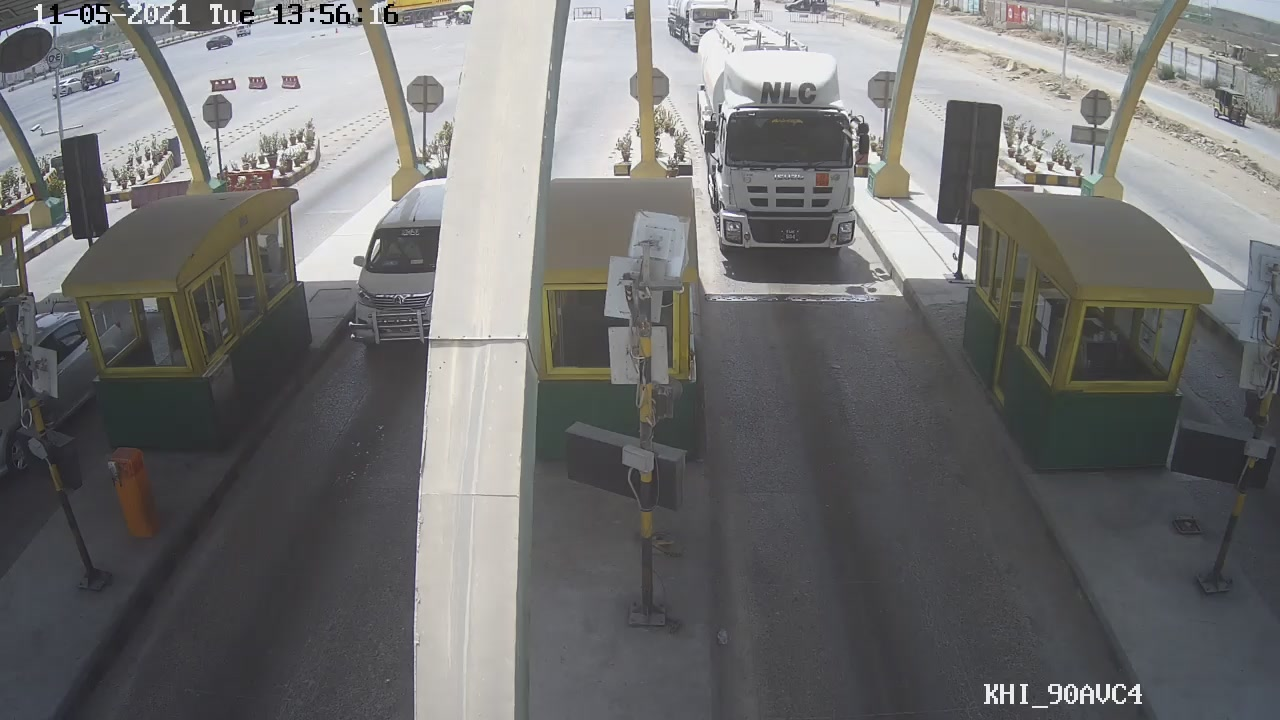F6: (696, 24, 877, 265)
